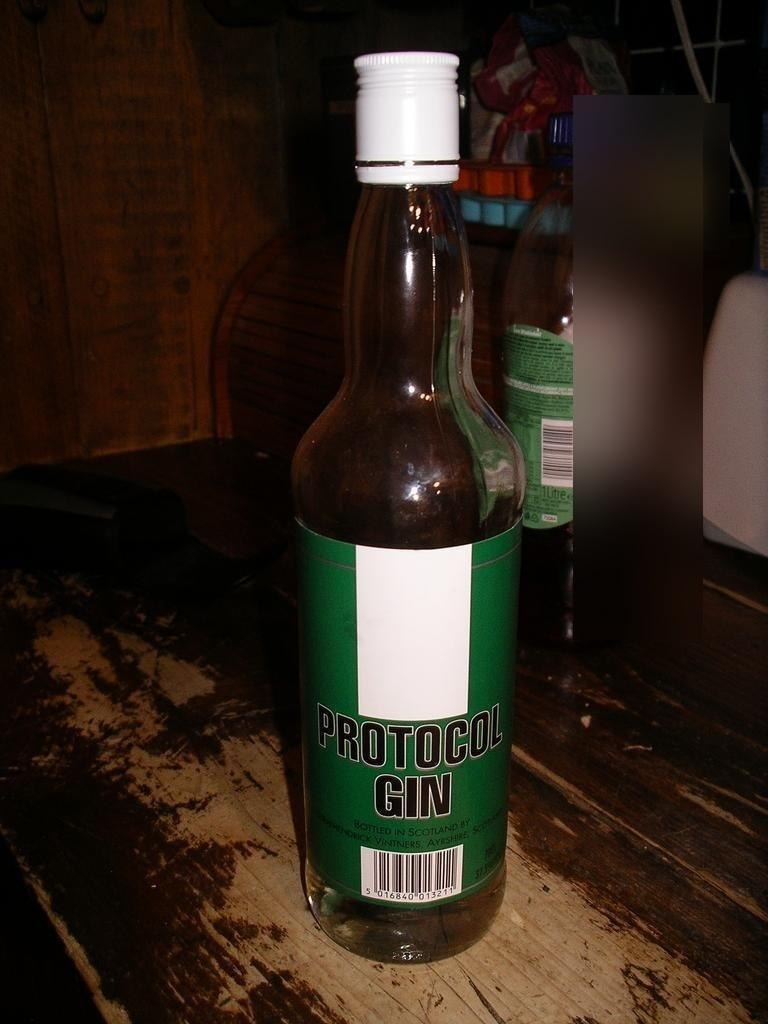bottle-glass: (276, 54, 527, 963)
